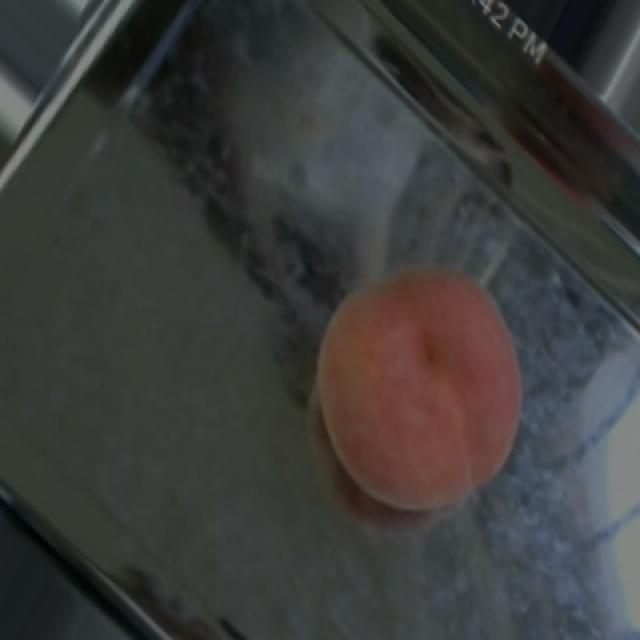Fruit: (277, 230, 551, 544)
